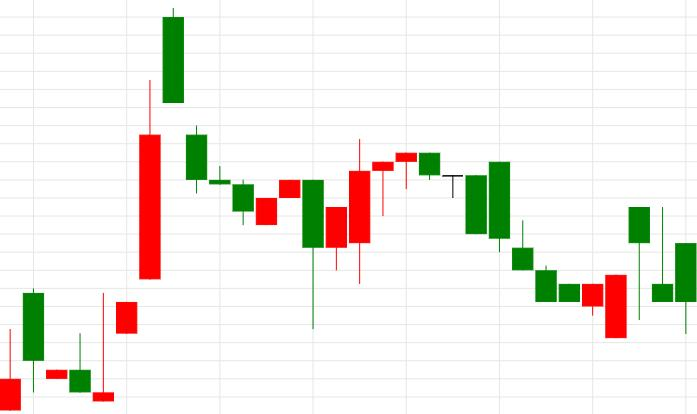hammer_rise: (161, 7, 324, 329)
